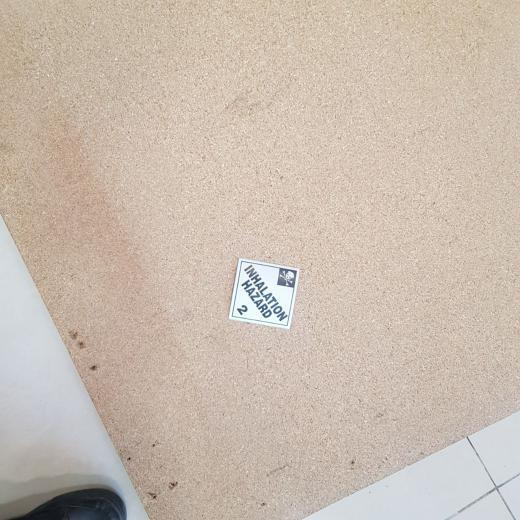poison: (229, 260, 299, 327)
